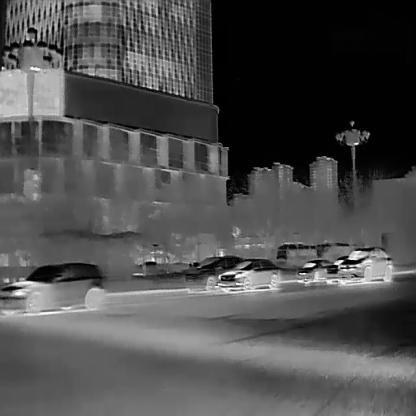car: (0, 262, 107, 315), (216, 258, 283, 293), (185, 254, 245, 290), (337, 246, 393, 282), (314, 241, 363, 265), (275, 243, 318, 268), (295, 258, 334, 282)
